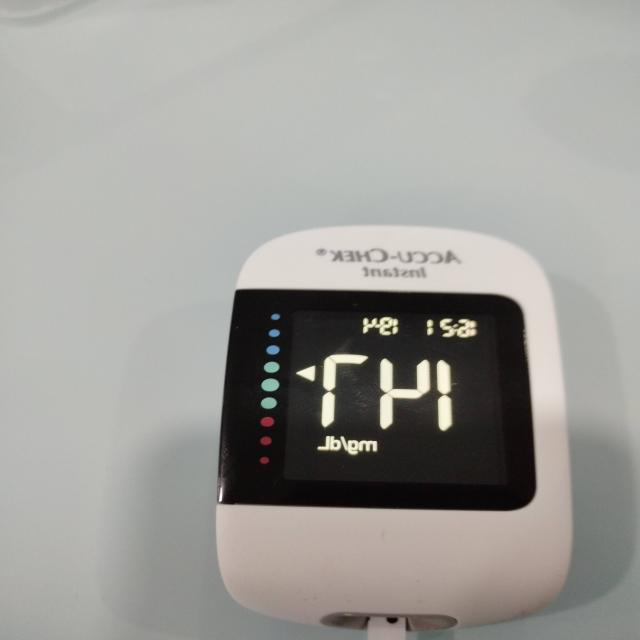gluco: (215, 226, 574, 640)
